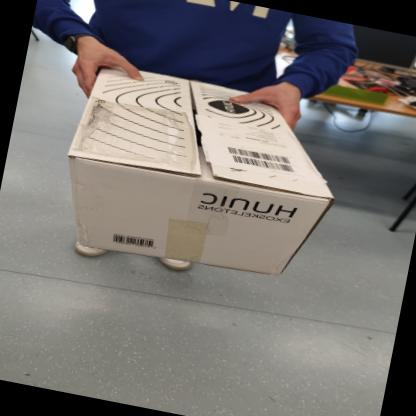box: (40, 46, 348, 310)
